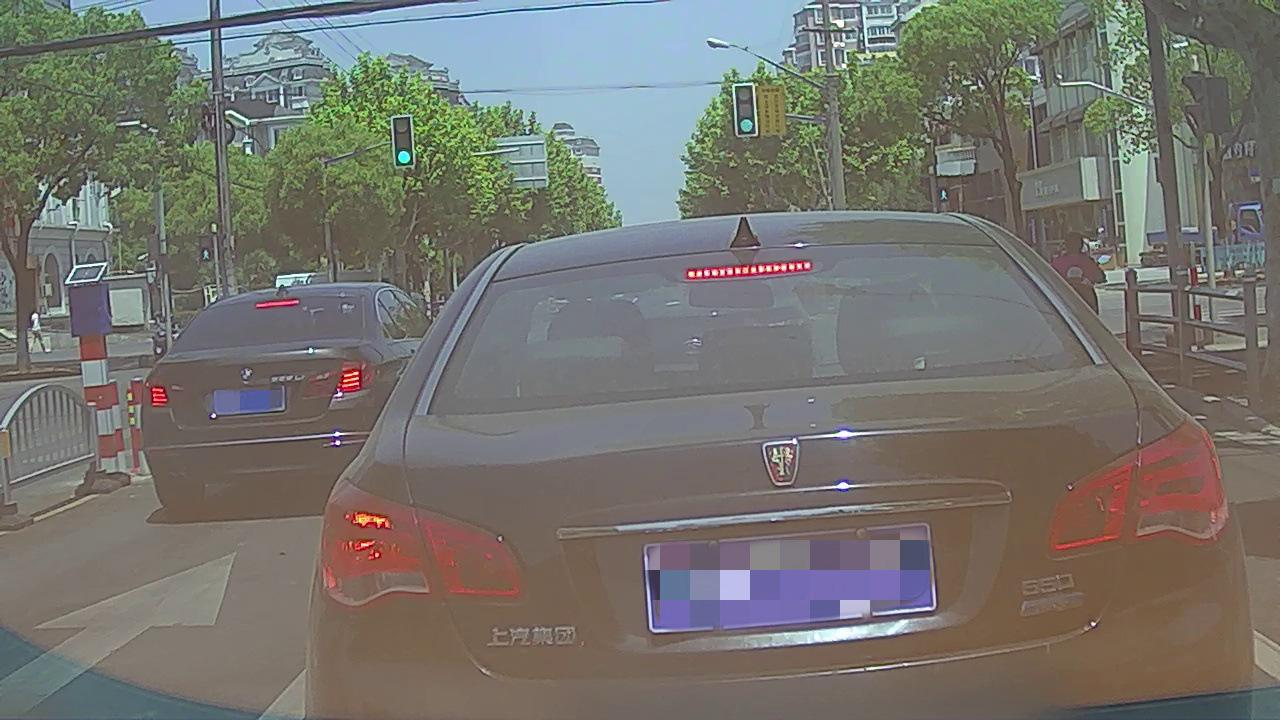traffic_light: (736, 85, 757, 138), (393, 118, 413, 166)
